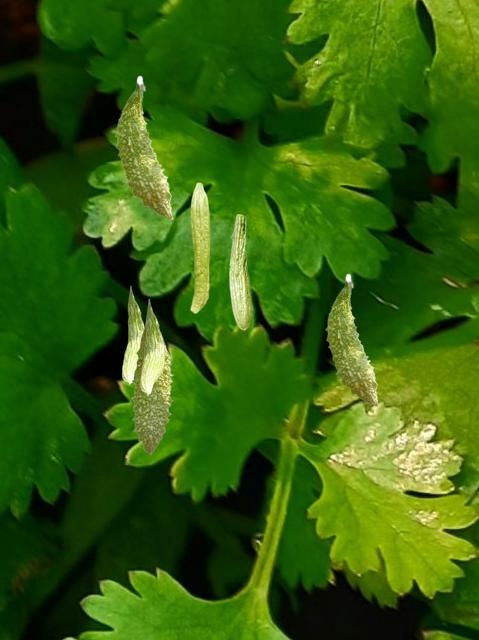ampalaya: (114, 75, 173, 220), (324, 273, 379, 407), (130, 323, 174, 454), (228, 213, 252, 330), (190, 182, 210, 313), (140, 298, 165, 396), (121, 285, 143, 385)
